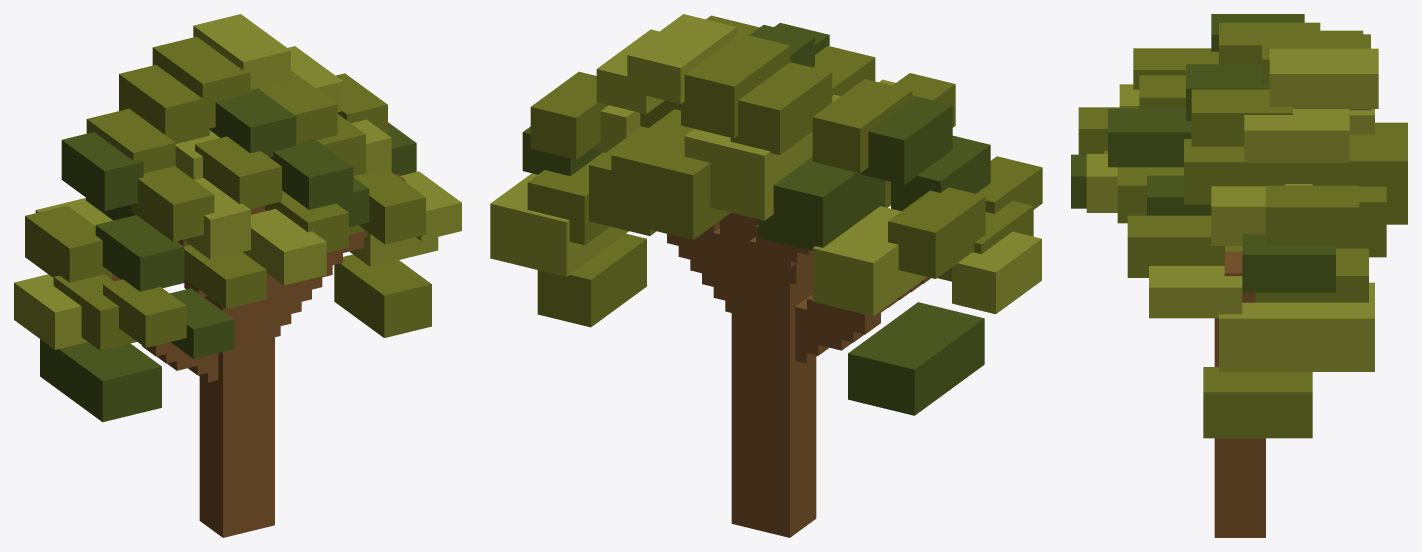
Rendered from SM_DC_Tree_Coarse.fbx.
3 views of the same model, side by side, from view 1: azimuth 30°, elevation 25°; view 2: azimuth 150°, elevation 25°; view 3: azimuth 270°, elevation 25° (orthographic). The views are drawn at different scales.
Parts seen in each view (by area): view 1: SM_DC_Tree_Coarse; view 2: SM_DC_Tree_Coarse; view 3: SM_DC_Tree_Coarse.
Part boxes in pixels (<box>): SM_DC_Tree_Coarse: <box>14,14,461,537</box>; SM_DC_Tree_Coarse: <box>490,14,1042,537</box>; SM_DC_Tree_Coarse: <box>1071,14,1407,537</box>.
Bounding box in the file's own units: 3.3 × 2.2 × 3.5.
